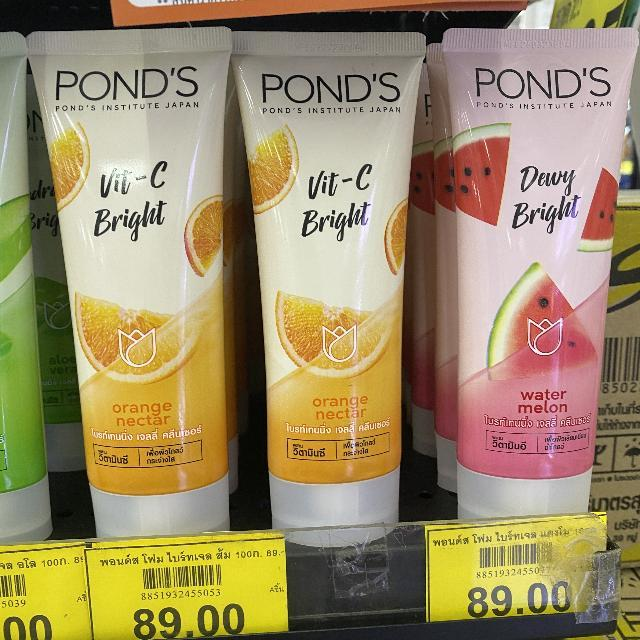Squeeze Tube: (2, 17, 430, 545), (23, 18, 235, 555), (440, 18, 637, 536), (234, 23, 429, 540), (431, 8, 604, 526)
